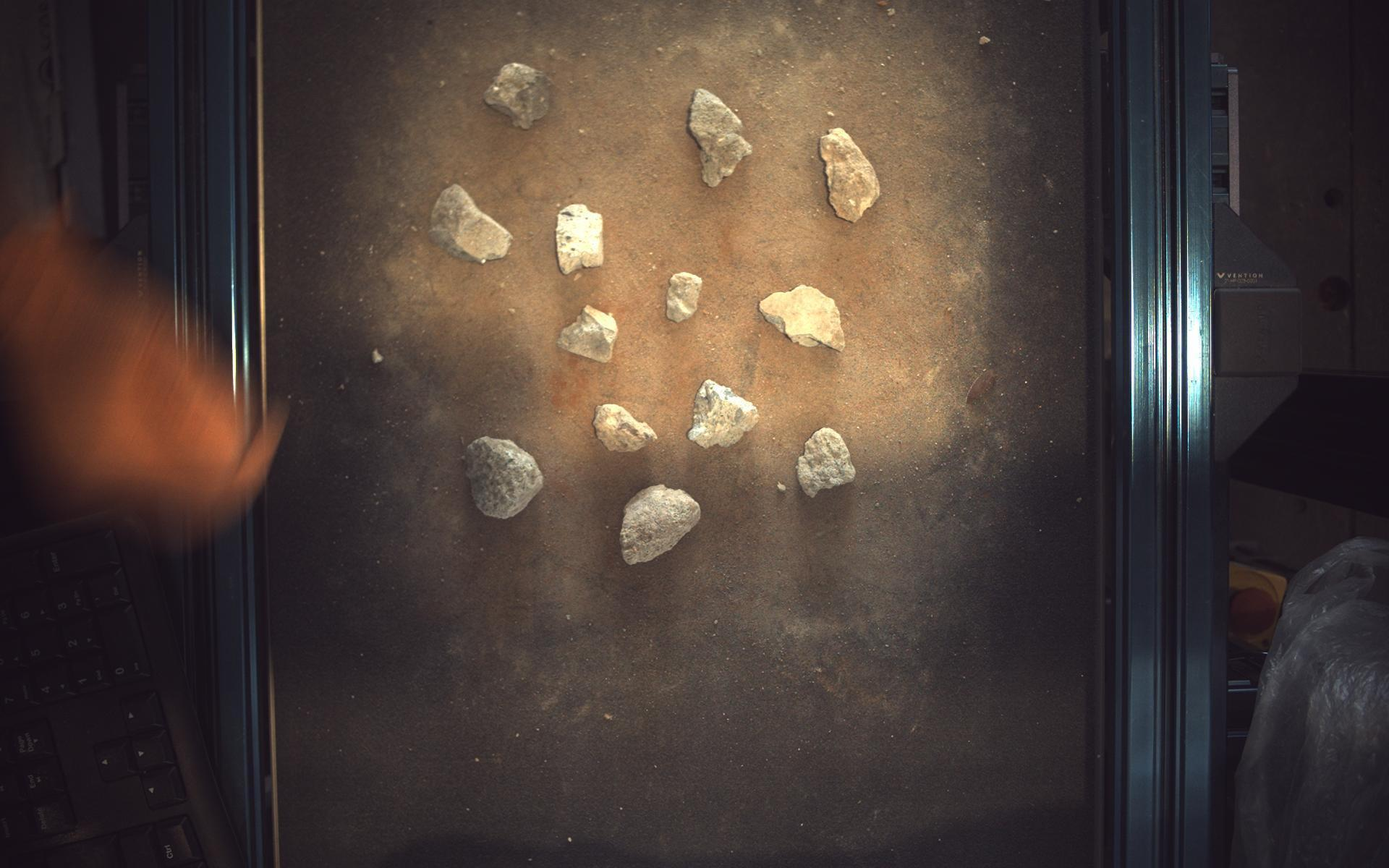concrete: (429, 183, 512, 263), (621, 485, 702, 566), (466, 436, 544, 519), (689, 88, 754, 187), (760, 284, 847, 351), (822, 127, 881, 222), (689, 379, 760, 448), (485, 62, 549, 128), (798, 427, 857, 498), (558, 305, 619, 362), (556, 203, 604, 274), (594, 404, 658, 452), (667, 271, 703, 322)
